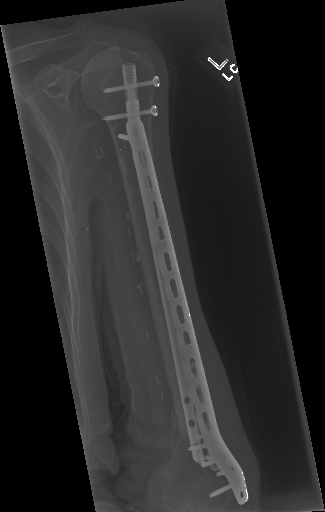implant: (152, 238, 253, 506), (100, 57, 167, 142)
